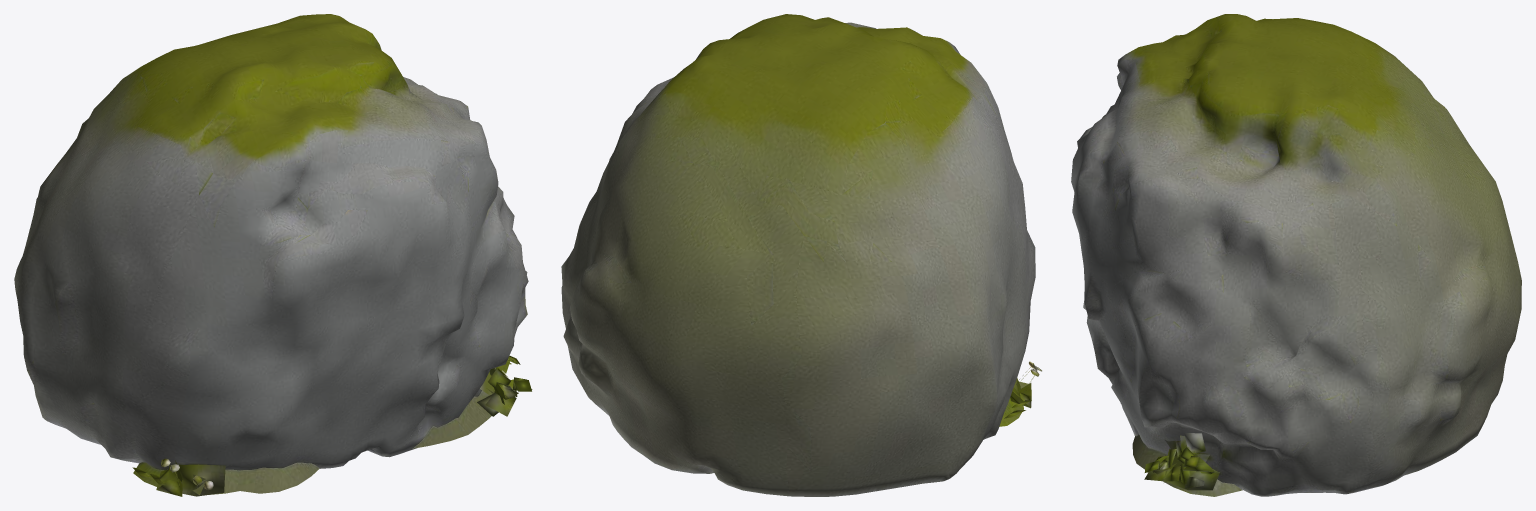
File: mossy-boulder.glb
3 renders of one model, left to right at view 1: azimuth 30°, elevation 25°; view 2: azimuth 150°, elevation 25°; view 3: azimuth 270°, elevation 25°, orthographic. The views are drawn at different scales.
Size of the model in its own units: 0.9536 by 0.77 by 0.8579.
1 material, 1 textured.
